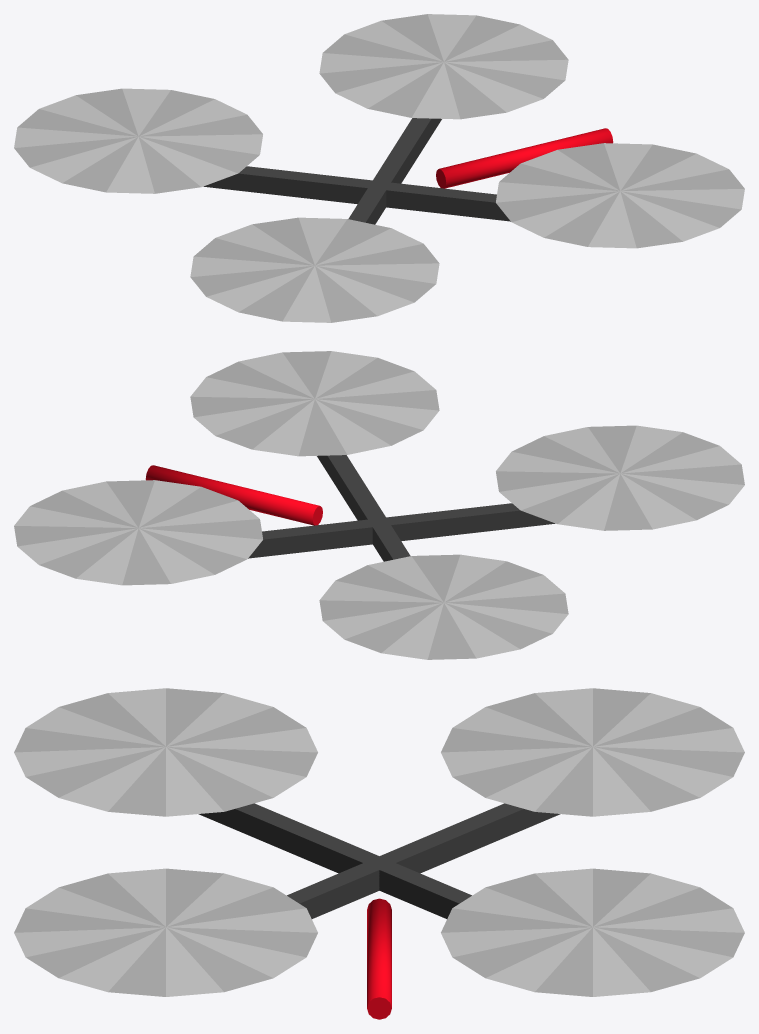
The model's file is quadrotor_2.dae.
3 renders of one model, top to bottom at view 1: azimuth 30°, elevation 25°; view 2: azimuth 150°, elevation 25°; view 3: azimuth 270°, elevation 25°, orthographic. The views are drawn at different scales.
Visible parts, largest first — view 1: MainBody_001; view 2: MainBody_001; view 3: MainBody_001.
Boxes of the visible parts, x1,y1,x2,y2 form: MainBody_001: (14, 14, 744, 322); MainBody_001: (14, 351, 744, 659); MainBody_001: (14, 688, 744, 1019).
Size of the model in its own units: 0.6371 by 0.6371 by 0.0459.
